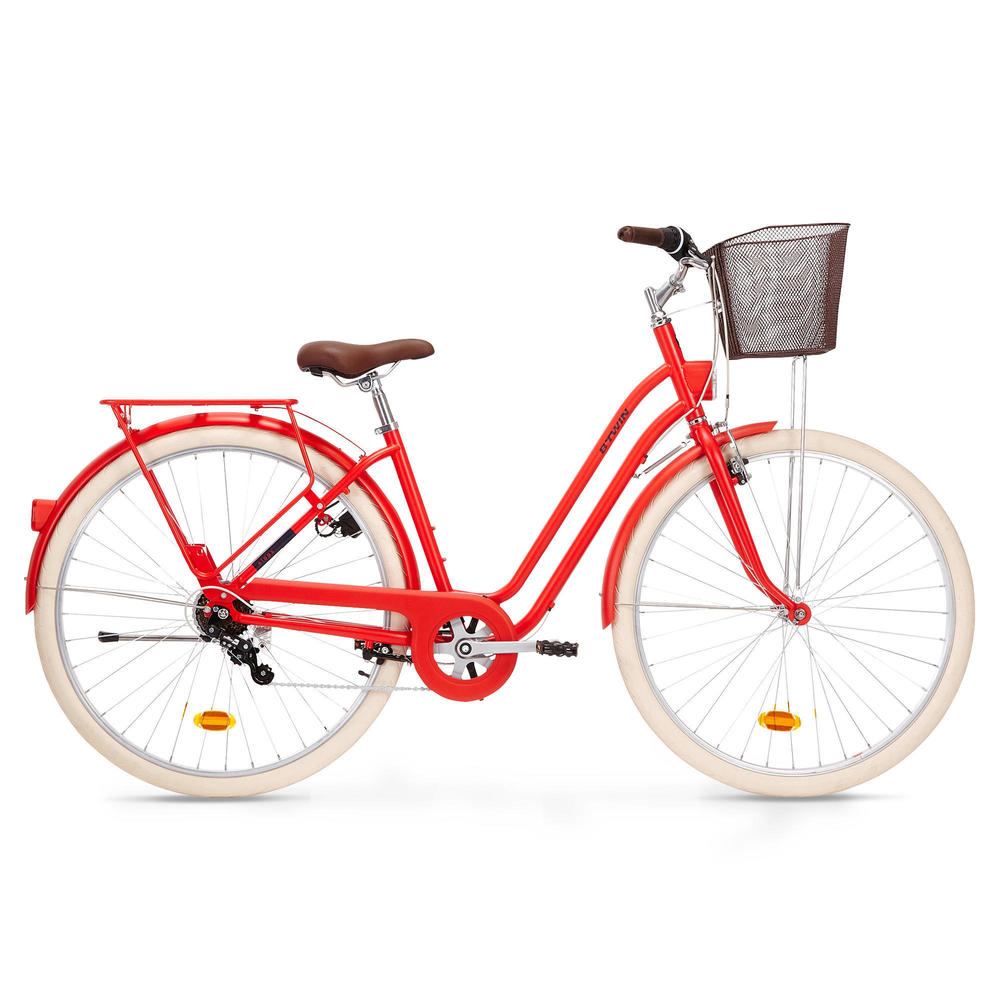UrbanBike: (14, 222, 998, 808)
